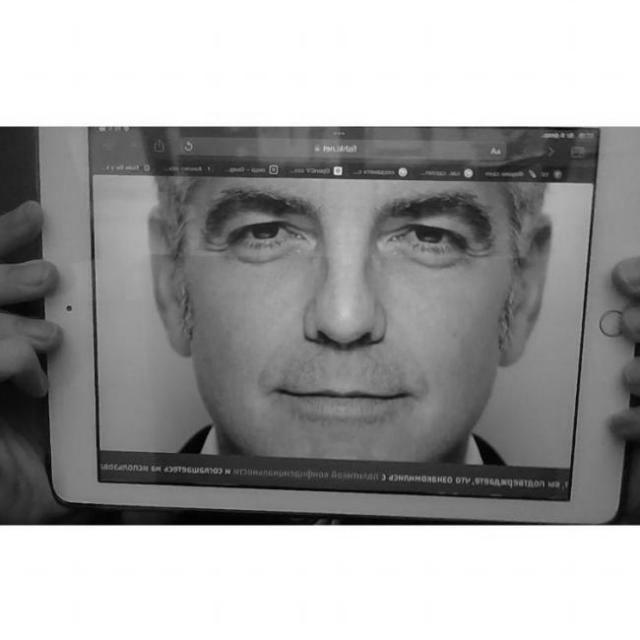fake: (25, 127, 640, 525)
